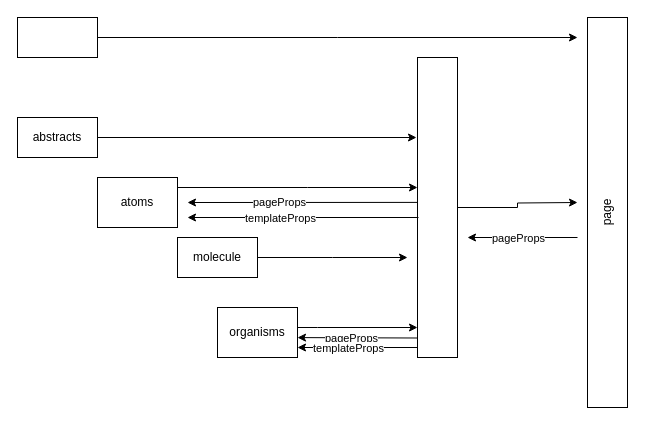
Some shapes in this 645 by 425 pixel diagram are drawn without their labels. Here are the shapes that lost their labels. From the top down, the box of each, then its label:
(16, 16, 98, 58): base.scss
(416, 56, 458, 358): page-template (generic, project, etc.)
